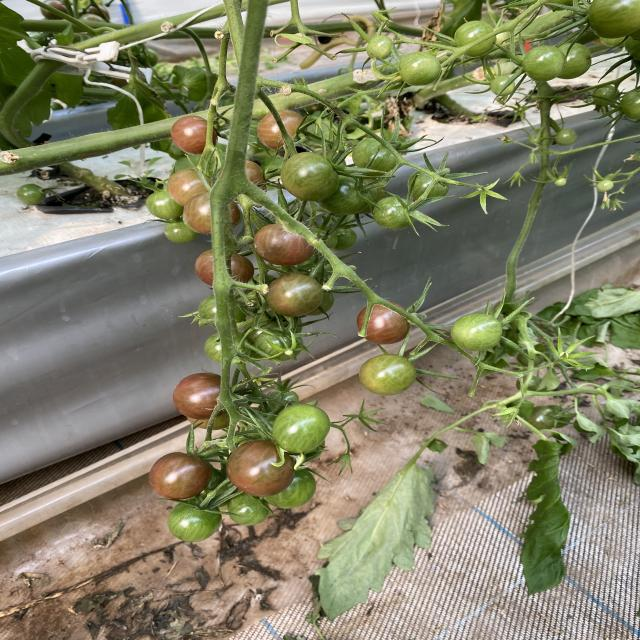yesil: (150, 497, 324, 543), (337, 349, 421, 408), (267, 406, 349, 464), (444, 309, 520, 354)
